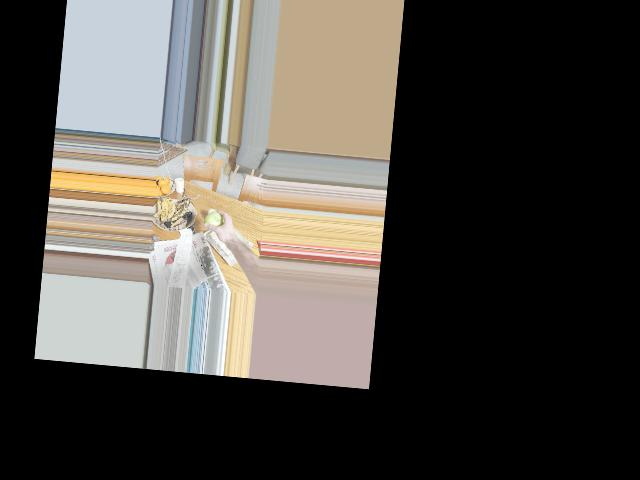apple: (202, 208, 227, 233)
